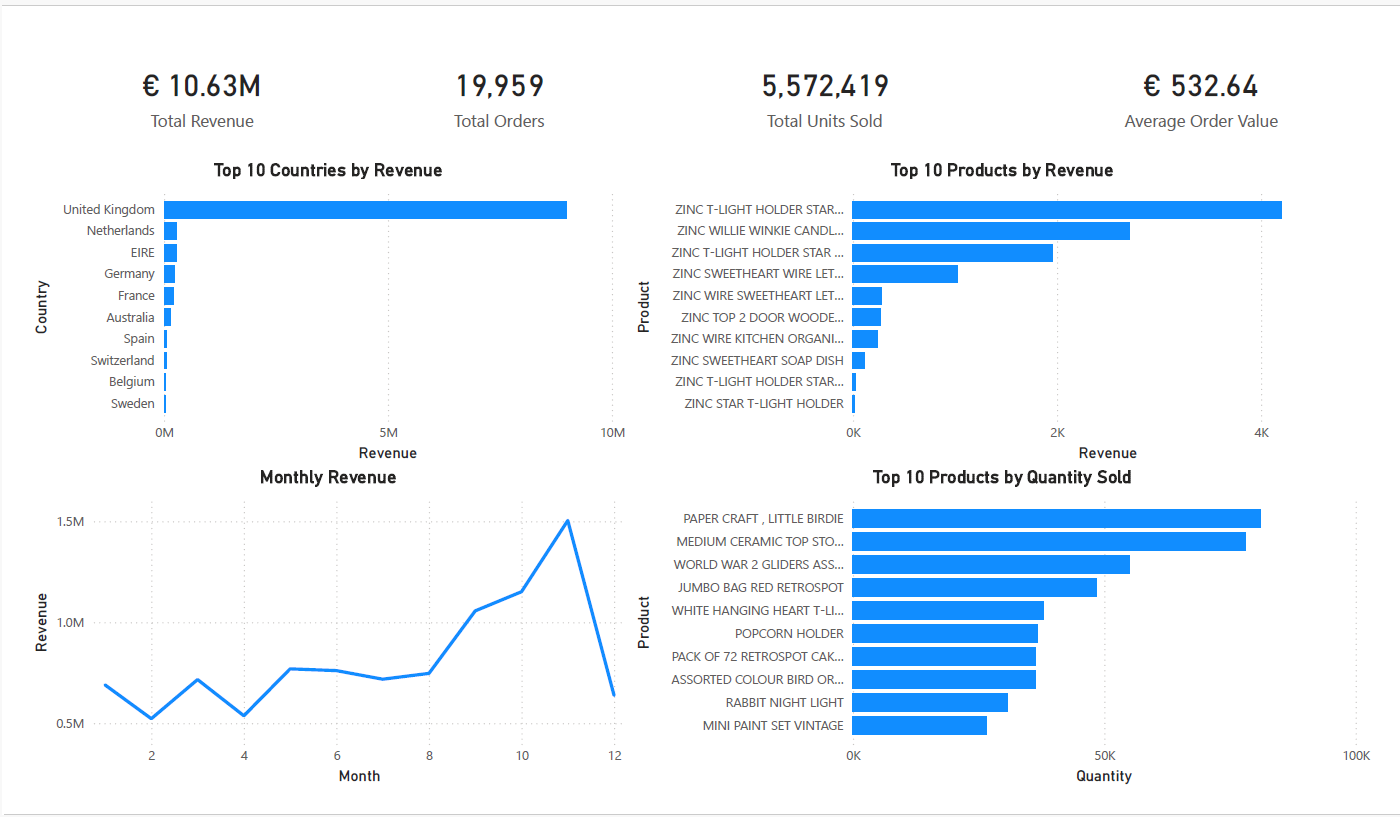

Layout of this report page (visuals, bound fields, positions):
{"tool":"powerbi","page":{"name":"Page 1","canvas":[1280,720],"ordinal":0},"visuals":[{"type":"card","fields":{"Values":["Sum(retail_sales_clean.revenue)"]},"box":[71.4,0,189.4,120.8],"z":0},{"type":"card","fields":{"Values":["Count(retail_sales_clean.order_id)"]},"box":[356.8,0,182.5,120.8],"z":1000},{"type":"card","fields":{"Values":["Sum(retail_sales_clean.quantity)"]},"box":[639.5,0,236,120.8],"z":2000},{"type":"card","fields":{"Values":["retail_sales_clean.Average Order Value"]},"box":[975.6,0,277.2,120.8],"z":3000},{"type":"barChart","title":"Top 10 Countries by Revenue","fields":{"Category":["retail_sales_clean.country"],"Y":["Sum(retail_sales_clean.revenue)"]},"box":[0,120.8,572.2,292.3],"z":4000},{"type":"barChart","title":"Top 10 Products by Revenue","fields":{"Category":["retail_sales_clean.product_name"],"Y":["Sum(retail_sales_clean.revenue)"]},"box":[572.2,120.8,708.1,292.3],"z":5000},{"type":"lineChart","title":"Monthly Revenue","fields":{"Category":["retail_sales_clean.month","retail_sales_clean.year"],"Y":["Sum(retail_sales_clean.revenue)"]},"box":[0,413,572.2,307.4],"z":6000},{"type":"barChart","title":"Top 10 Products by Quantity Sold","fields":{"Y":["Sum(retail_sales_clean.quantity)"],"Category":["retail_sales_clean.product_name"]},"box":[572.2,413,708.1,307.4],"z":7000}]}

Visuals, with their boxes on the page's 1280x720 design canvas (x1, y1, x2, y2). These are canvas units, not pixel positions in the 1400x817 screenshot, which may show the page scaled, cropped or inside an application window:
card - Sum(retail_sales_clean.revenue): left=71, top=0, right=261, bottom=121
card - Count(retail_sales_clean.order_id): left=357, top=0, right=539, bottom=121
card - Sum(retail_sales_clean.quantity): left=640, top=0, right=876, bottom=121
card - retail_sales_clean.Average Order Value: left=976, top=0, right=1253, bottom=121
"Top 10 Countries by Revenue" barChart: left=0, top=121, right=572, bottom=413
"Top 10 Products by Revenue" barChart: left=572, top=121, right=1280, bottom=413
"Monthly Revenue" lineChart: left=0, top=413, right=572, bottom=720
"Top 10 Products by Quantity Sold" barChart: left=572, top=413, right=1280, bottom=720
